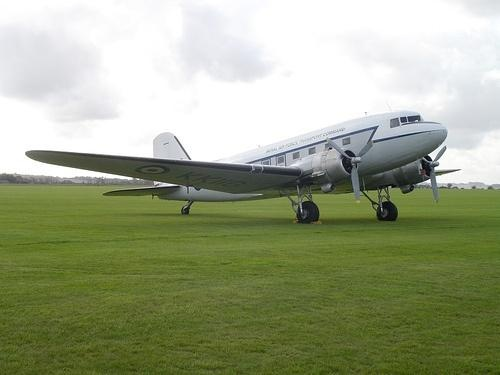aeroplane: (25, 109, 463, 226)
